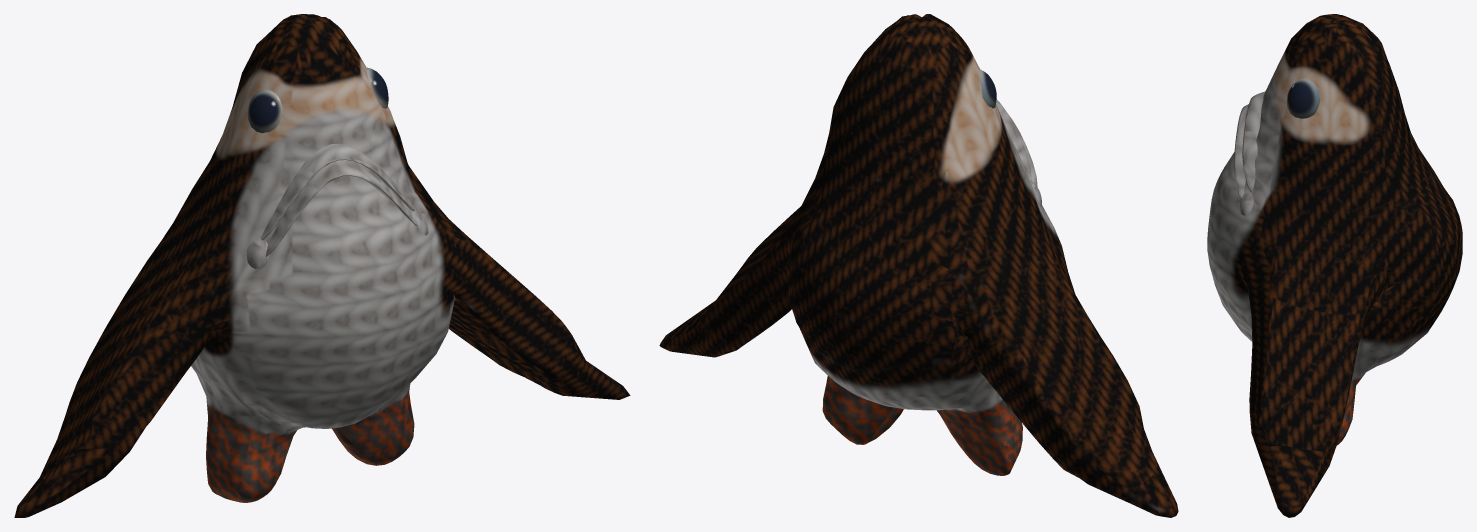
The model's file is penguin_c915ab5d.glb.
The picture shows the model from 3 angles, left to right: view 1: azimuth 30°, elevation 25°; view 2: azimuth 150°, elevation 25°; view 3: azimuth 270°, elevation 25°; orthographic projection. The views are drawn at different scales.
Visible parts, largest first — view 1: SadPorg; view 2: SadPorg; view 3: SadPorg.
Part boxes in pixels (x1,y1,x2,y2): SadPorg: [14, 14, 630, 517]; SadPorg: [659, 14, 1178, 517]; SadPorg: [1207, 14, 1462, 517].
Bounding box in the file's own units: 314 × 239 × 138.
1 material, 1 textured.
